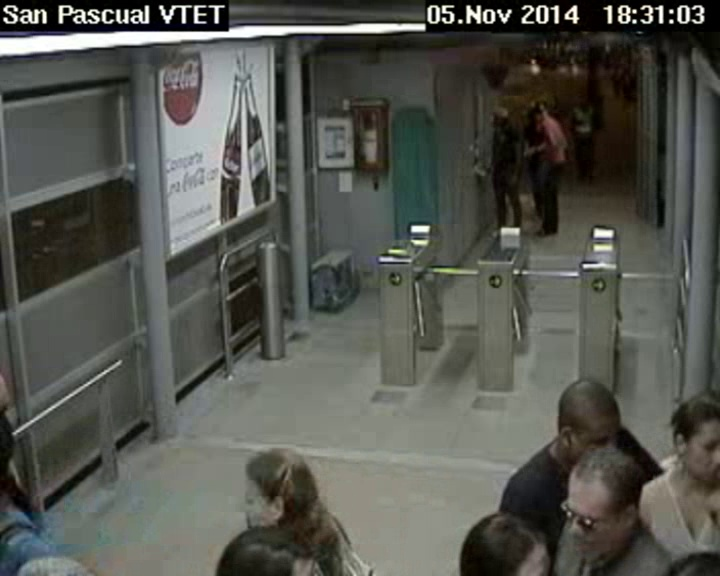person: (552, 447, 639, 559), (240, 439, 322, 538), (451, 511, 555, 576), (553, 371, 624, 461), (210, 527, 330, 576), (662, 393, 720, 483), (488, 109, 509, 126), (529, 109, 544, 125), (575, 94, 589, 109)
